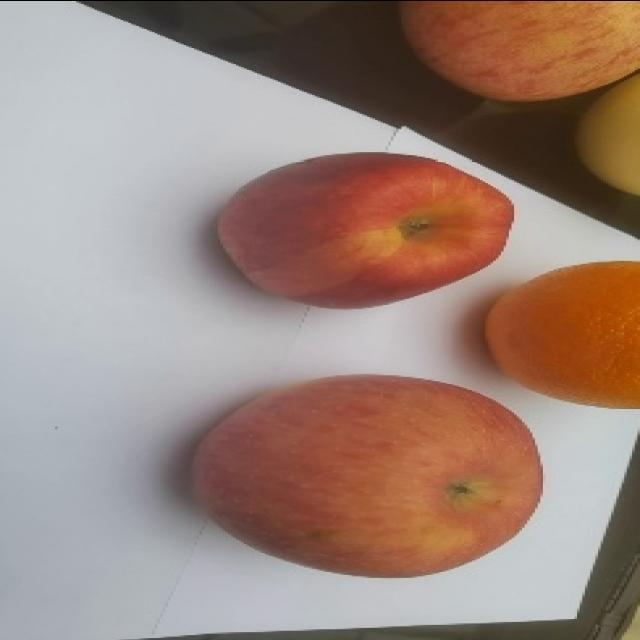Apple: (189, 372, 543, 578), (215, 150, 514, 309), (398, 0, 639, 103)
Orange: (483, 259, 639, 409)
